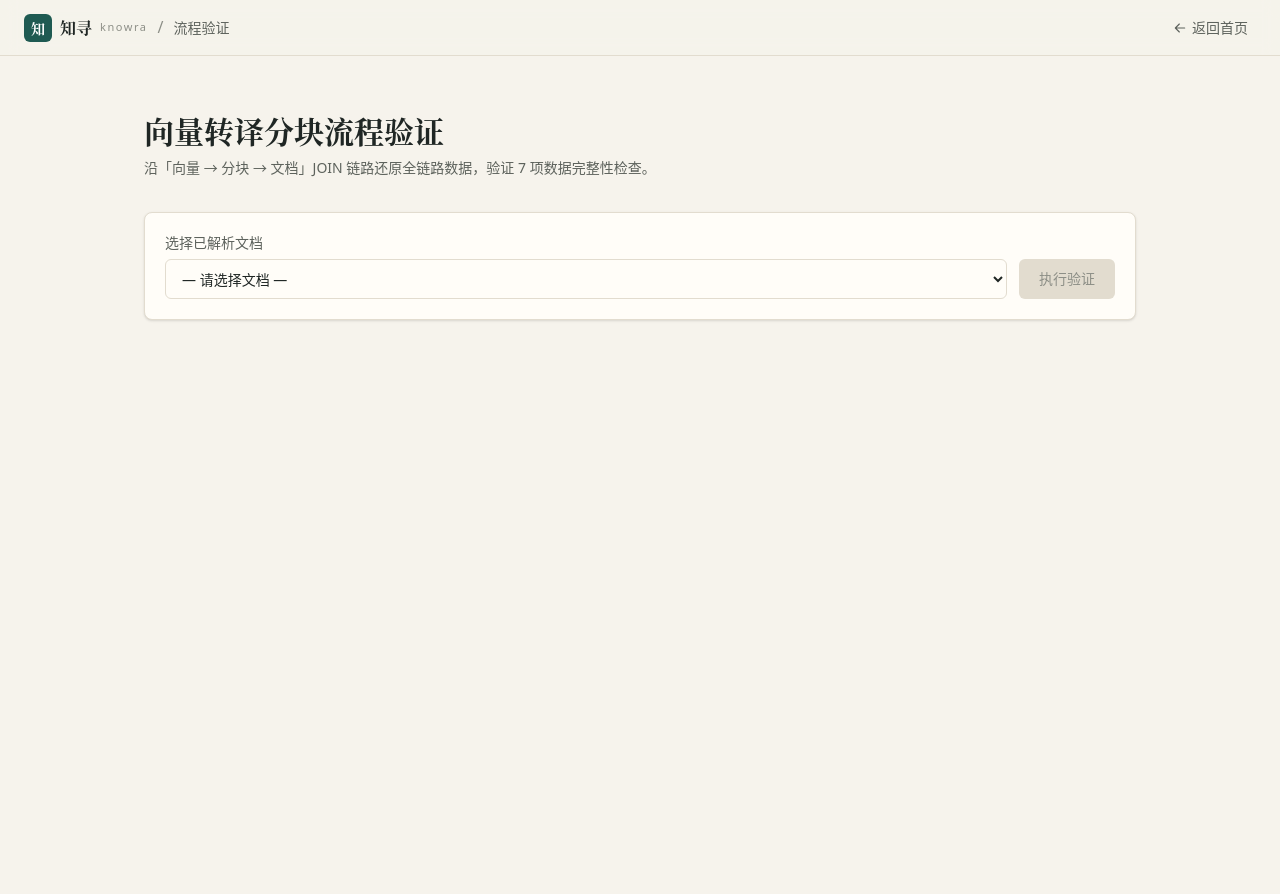
Test case: VerificationView › 成功响应渲染 › 验证成功后渲染文档信息面板
The image size is (1280, 894).
Select "测试文档 1.pdf (5 段)" in the dropdown with test id "document-select". click: (586, 279)
box: [165,259,1007,299]
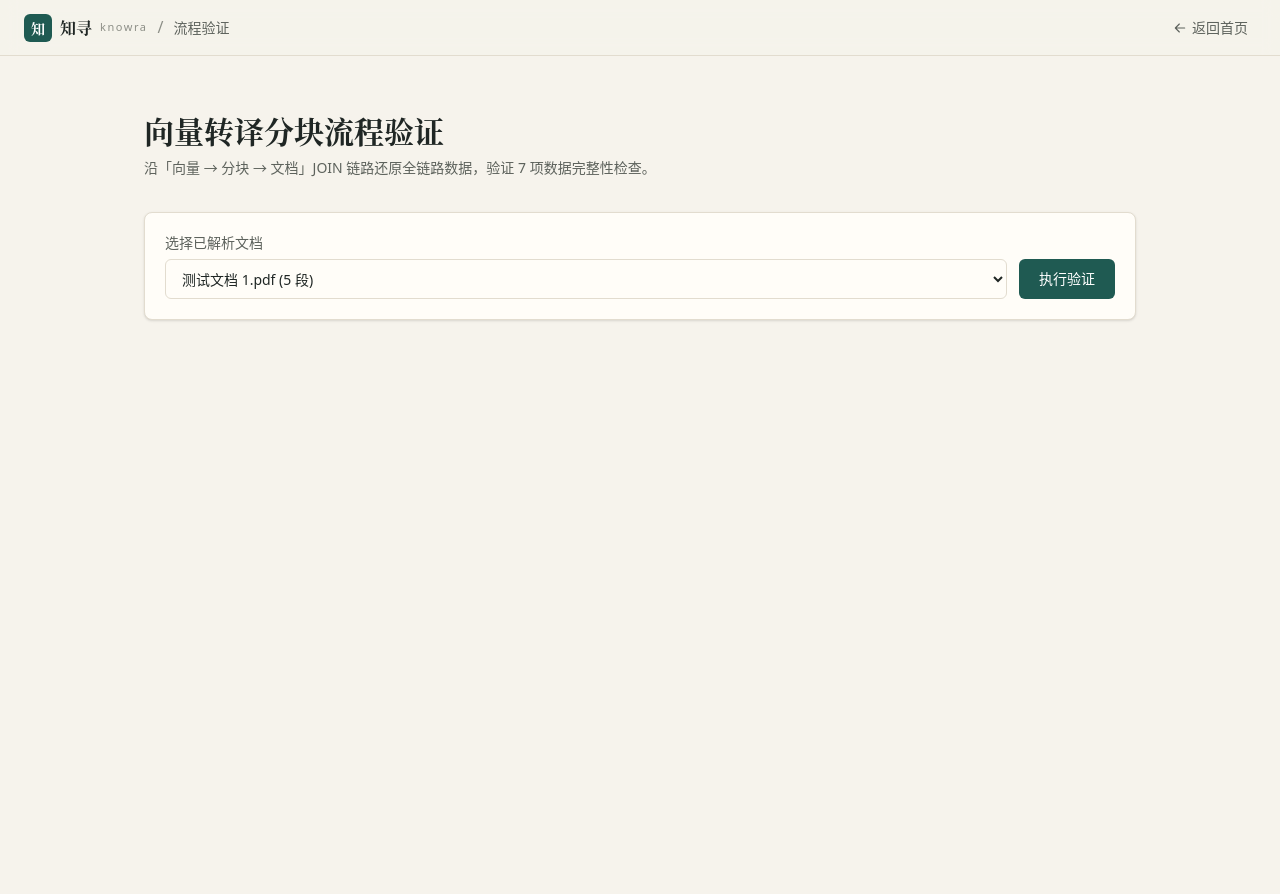
Click the button with test id "verify-button". click: (1067, 279)
box: [1019,259,1115,299]
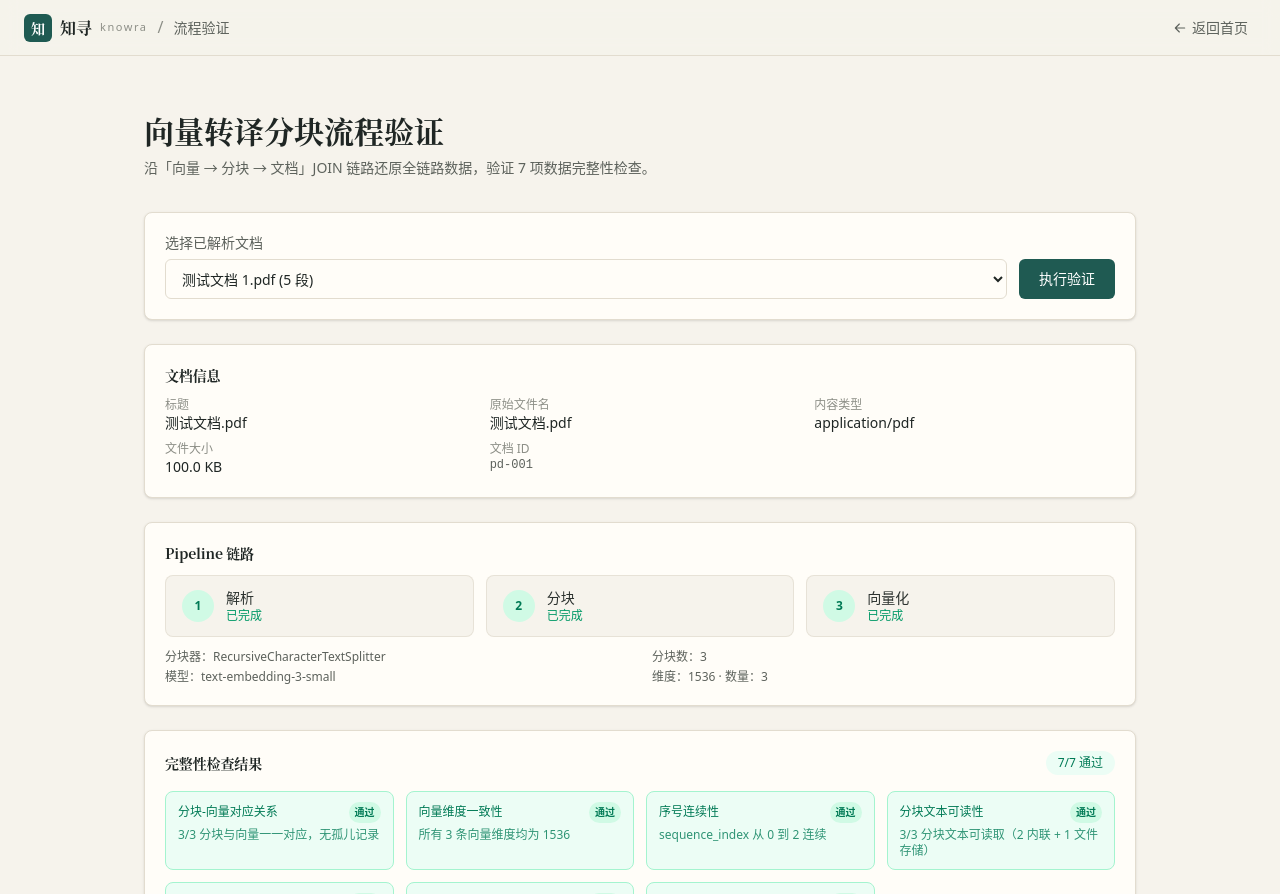
Check: the element with test id "document-info" is shown, box [144,344,1136,498]
Check: the element with test id "document-info" shows "测试文档.pdf", box [165,413,247,432]
Check: the element with test id "document-info" shows "pd-001", box [490,458,533,472]
